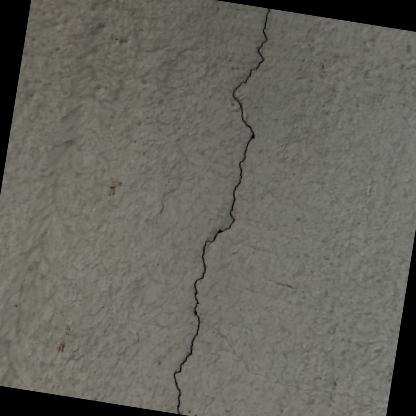crack: (172, 7, 270, 414)
